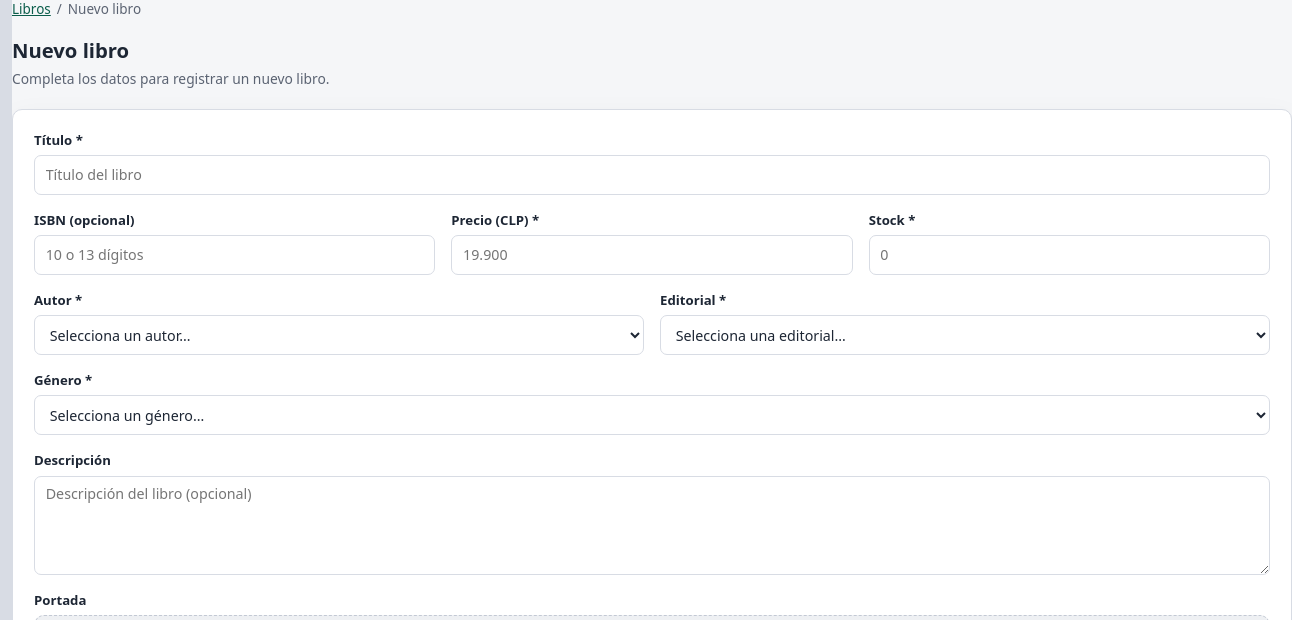
Test: BookFormPage (create) › rejects an invalid (zero) price
Type "Cuentos" into the field labelled "Título *" at (652, 175), box [34,155,1270,195]
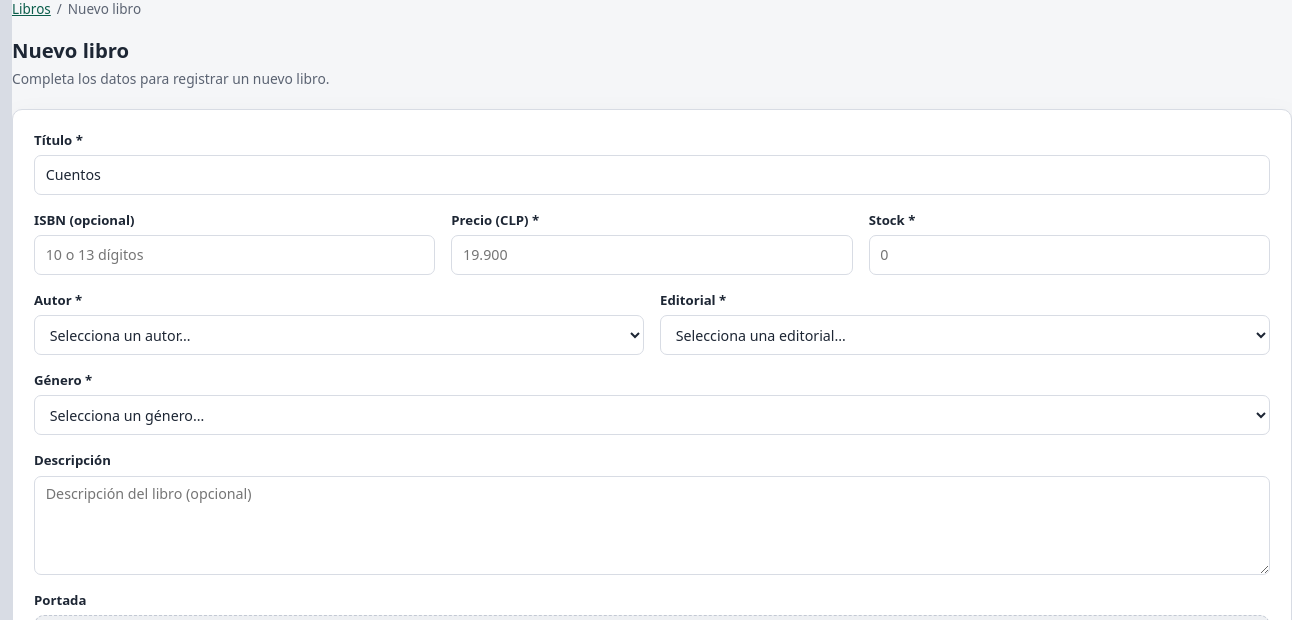
Type "0" into the field labelled "Precio (CLP) *" at (652, 255), box [451,235,853,275]
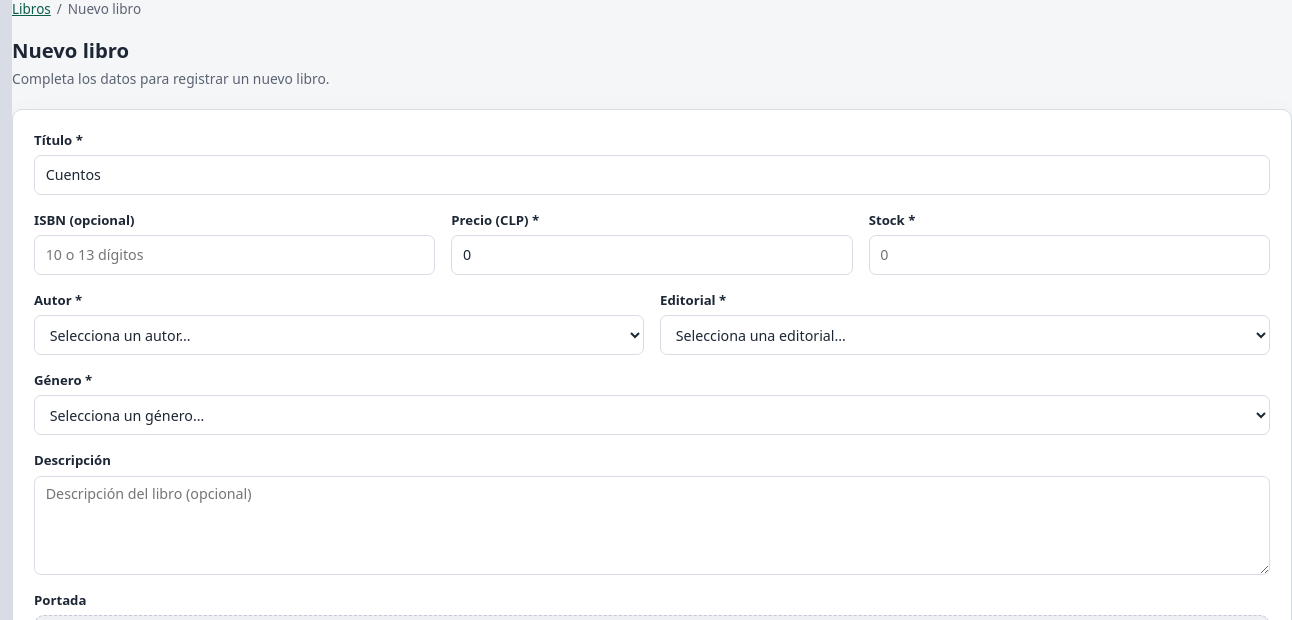
Type "5" into the field labelled "Stock *" at (1069, 255), box [869,235,1270,275]
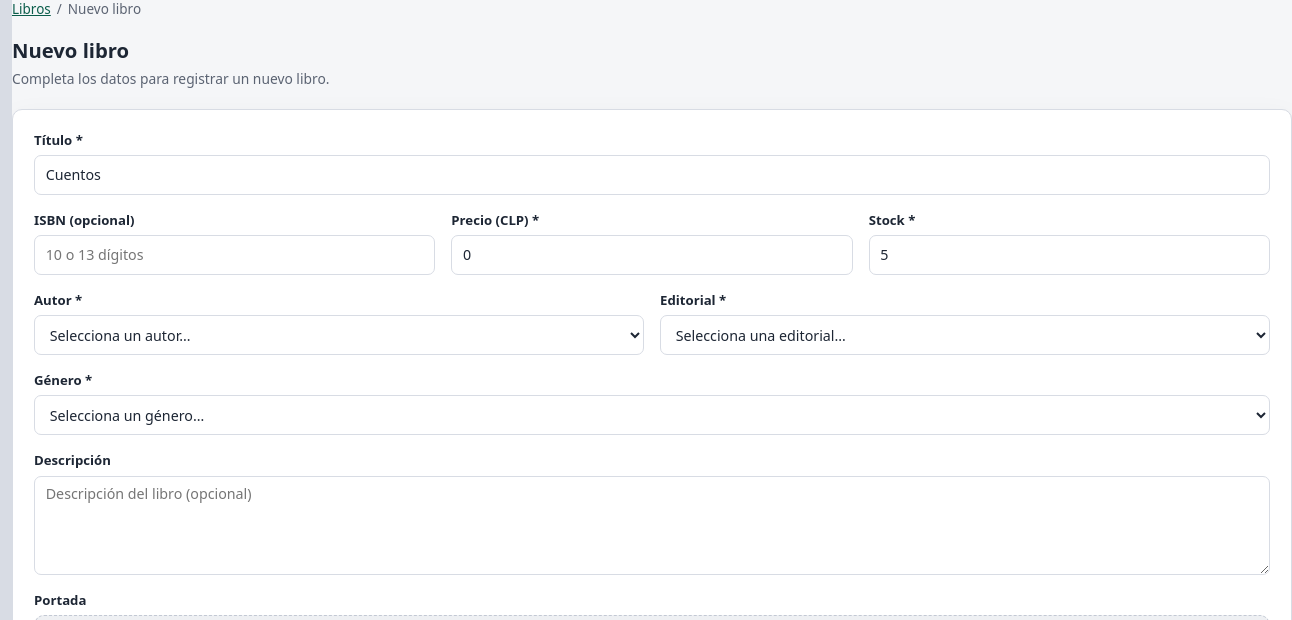
Select "1" in the dropdown labelled "Autor *" at (339, 335), box [34,315,644,355]
Select "1" in the dropdown labelled "Editorial *" at (965, 335), box [660,315,1270,355]
Select "2" in the dropdown labelled "Género *" at (652, 416), box [34,396,1270,436]
(page scrolled)
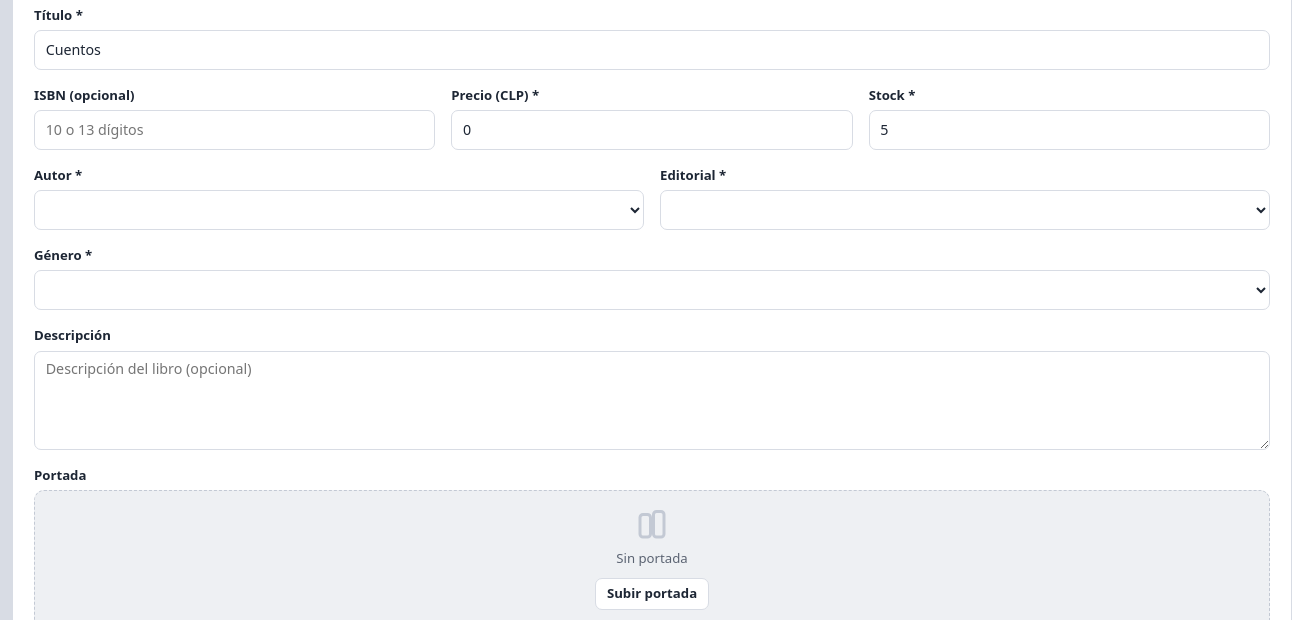
Submit the text "Guardar"
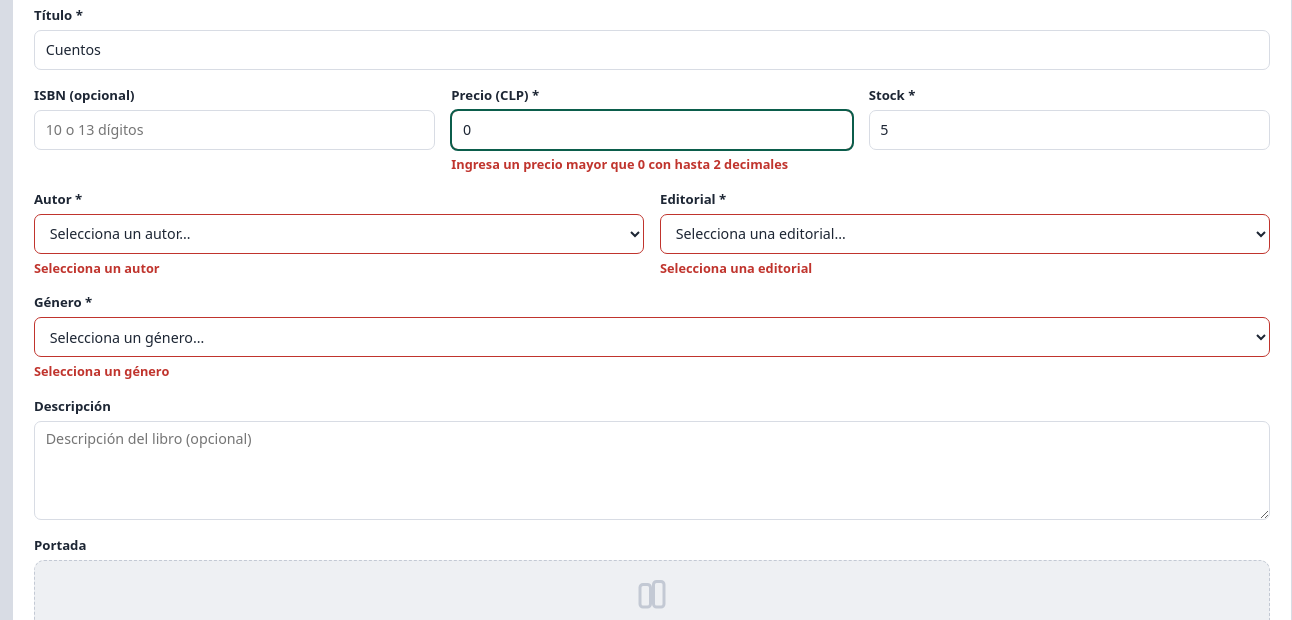
Check: the text "Ingresa un precio mayor que 0 con hasta 2 decimales" is shown, box [451,155,788,173]
